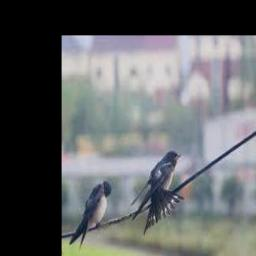Swallow: (131, 150, 184, 236), (69, 180, 111, 251)
